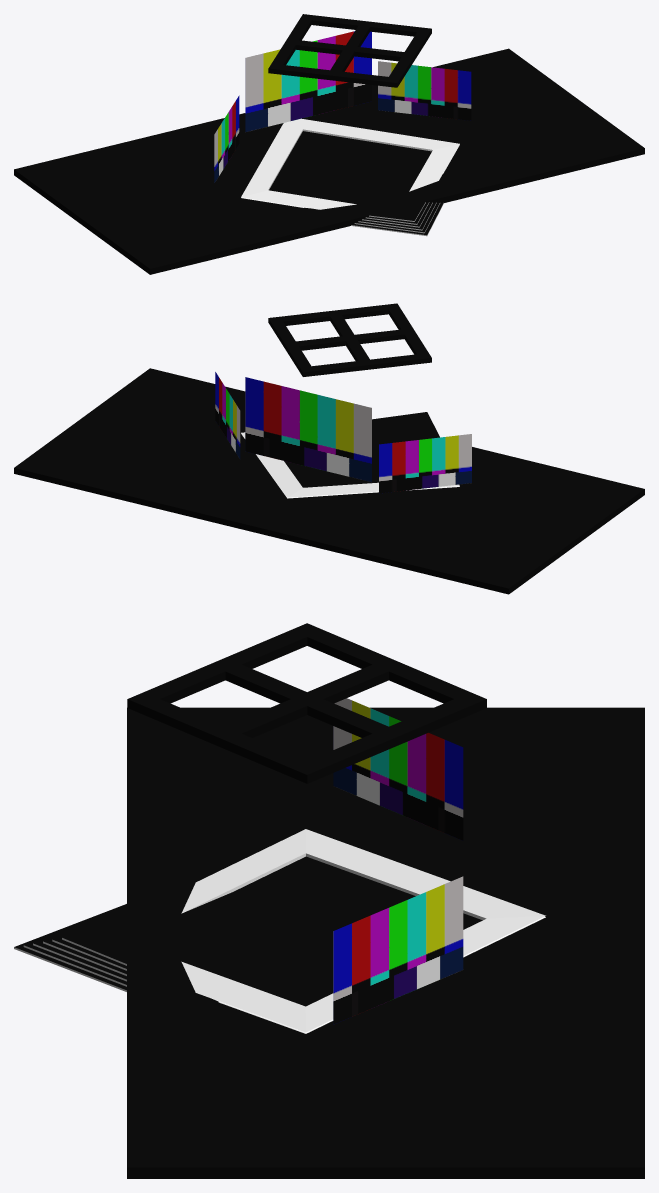
File: stage_5.glb
3 renders of one model, top to bottom at view 1: azimuth 30°, elevation 25°; view 2: azimuth 150°, elevation 25°; view 3: azimuth 270°, elevation 25°, orthographic. The views are drawn at different scales.
Visible parts, largest first — view 1: Cube_0, Plane.001_3, Cube.003_2, Cube.001_1, Plane.003_5, Plane.002_4; view 2: Cube_0, Plane.001_3, Cube.003_2, Plane.002_4, Cube.001_1, Plane.003_5; view 3: Cube_0, Cube.003_2, Cube.001_1, Plane.003_5, Plane.002_4.
Boxes of the visible parts, <box> form: Cube_0: <box>14,48,644,274</box>; Plane.001_3: <box>245,31,371,132</box>; Cube.003_2: <box>268,14,431,87</box>; Cube.001_1: <box>241,118,459,209</box>; Plane.003_5: <box>378,61,471,120</box>; Plane.002_4: <box>214,95,239,182</box>; Cube_0: <box>14,368,644,594</box>; Plane.001_3: <box>245,377,371,482</box>; Cube.003_2: <box>268,303,431,376</box>; Plane.002_4: <box>379,434,471,493</box>; Cube.001_1: <box>241,432,459,498</box>; Plane.003_5: <box>215,372,240,459</box>; Cube_0: <box>14,707,644,1178</box>; Cube.003_2: <box>127,623,486,783</box>; Cube.001_1: <box>181,829,545,1033</box>; Plane.003_5: <box>333,876,463,1024</box>; Plane.002_4: <box>333,698,463,840</box>.
Size of the model in its own units: 300 by 75.96 by 174.
5 materials, 1 textured.
